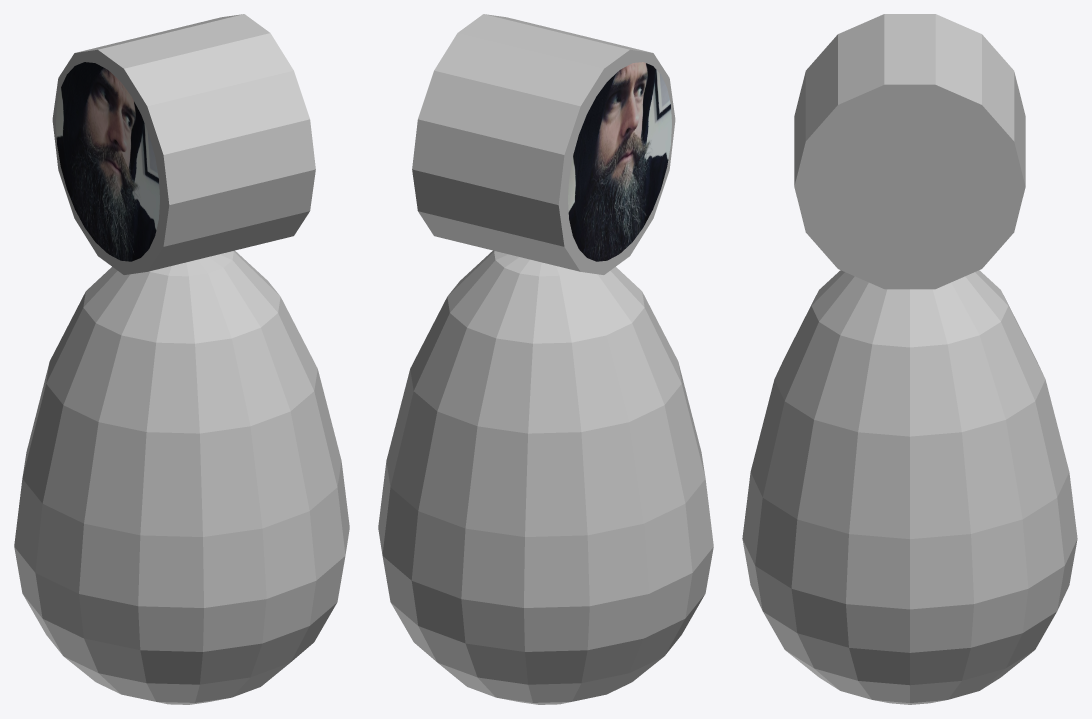
The model's file is TeachersModel-Niels.obj.
3 renders of one model, left to right at view 1: azimuth 30°, elevation 25°; view 2: azimuth 150°, elevation 25°; view 3: azimuth 270°, elevation 25°, orthographic.
Visible parts, largest first — view 1: Sphere, Cylinder, Niels; view 2: Sphere, Cylinder, Niels; view 3: Sphere, Cylinder.
Part boxes in pixels (bbox=[...]): Sphere: bbox=[14, 250, 349, 704]; Cylinder: bbox=[52, 14, 315, 274]; Niels: bbox=[56, 62, 159, 261]; Sphere: bbox=[378, 250, 713, 704]; Cylinder: bbox=[412, 14, 675, 274]; Niels: bbox=[568, 62, 671, 261]; Sphere: bbox=[742, 270, 1077, 704]; Cylinder: bbox=[794, 14, 1025, 289].
Bounding box in the file's own units: 2 × 4.23 × 2.
